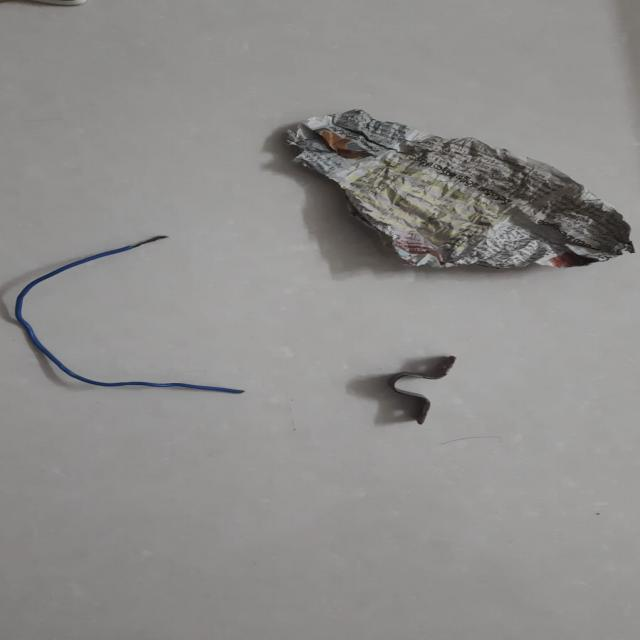metal: (363, 349, 466, 430)
paper: (245, 91, 640, 301)
plastic: (0, 233, 253, 409)
